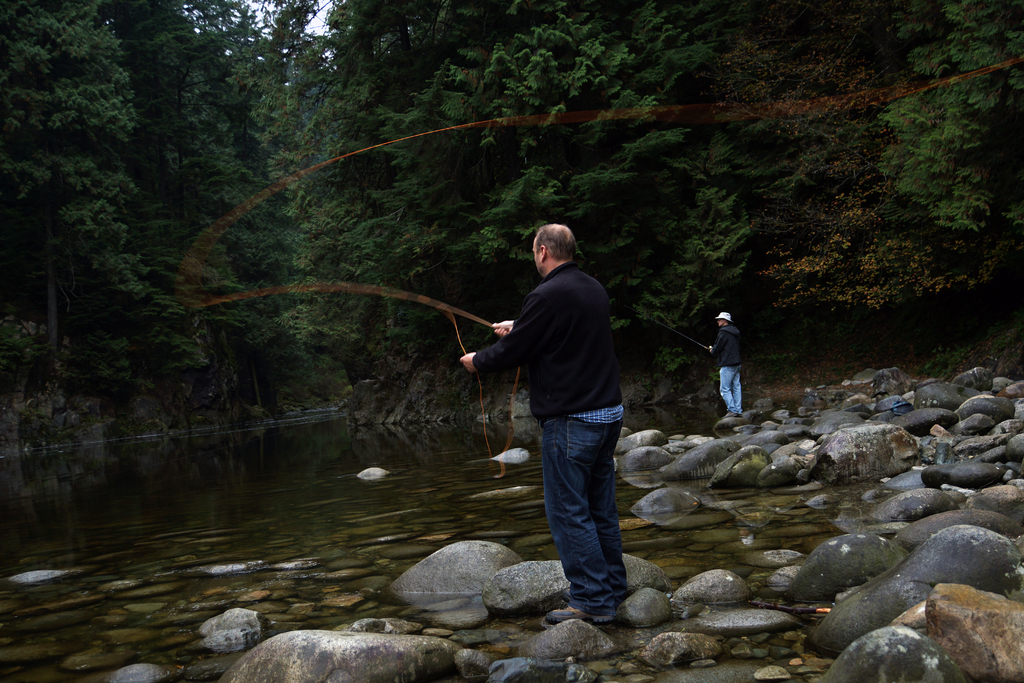Tree: (0, 0, 1024, 385)
